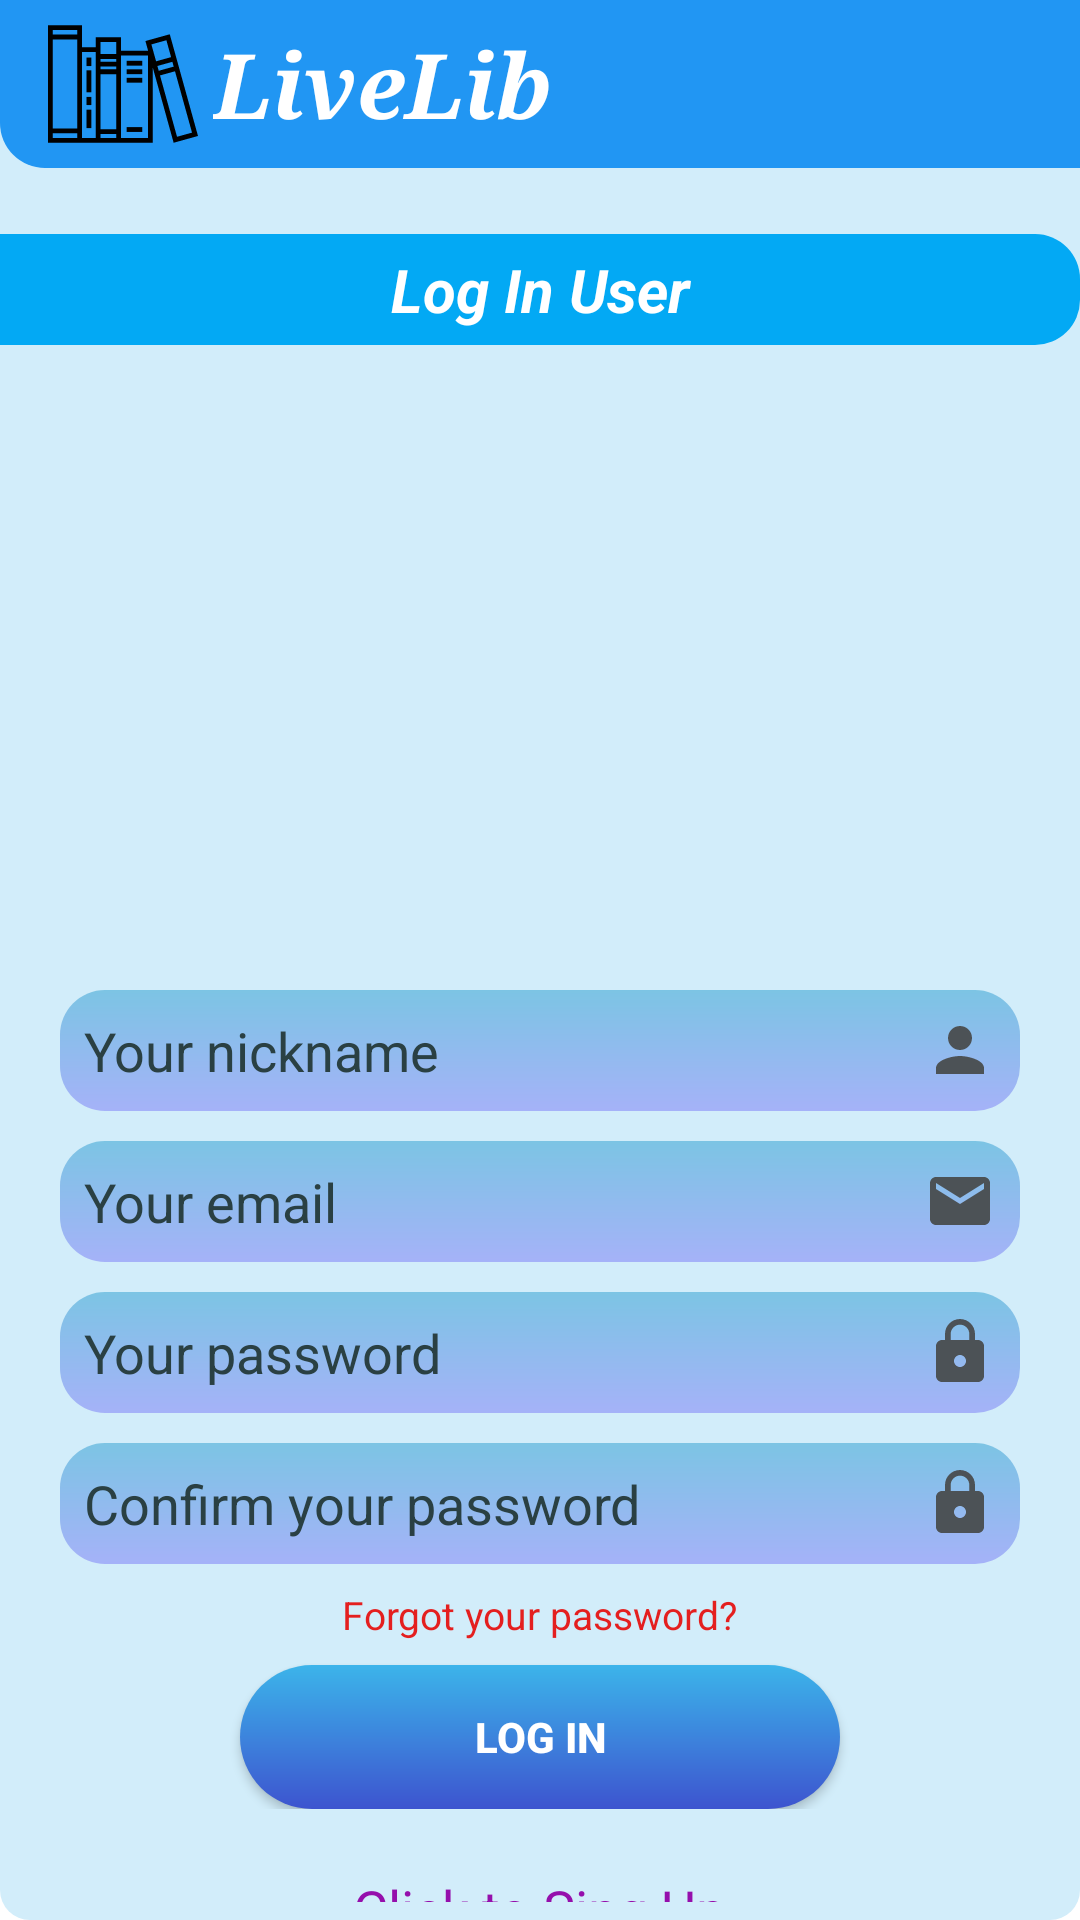

Named icons in this screenshot (1080px x 1920px) and their bounding boxes, (x1, y1, x2, y2):
books: (48, 25, 198, 143)
